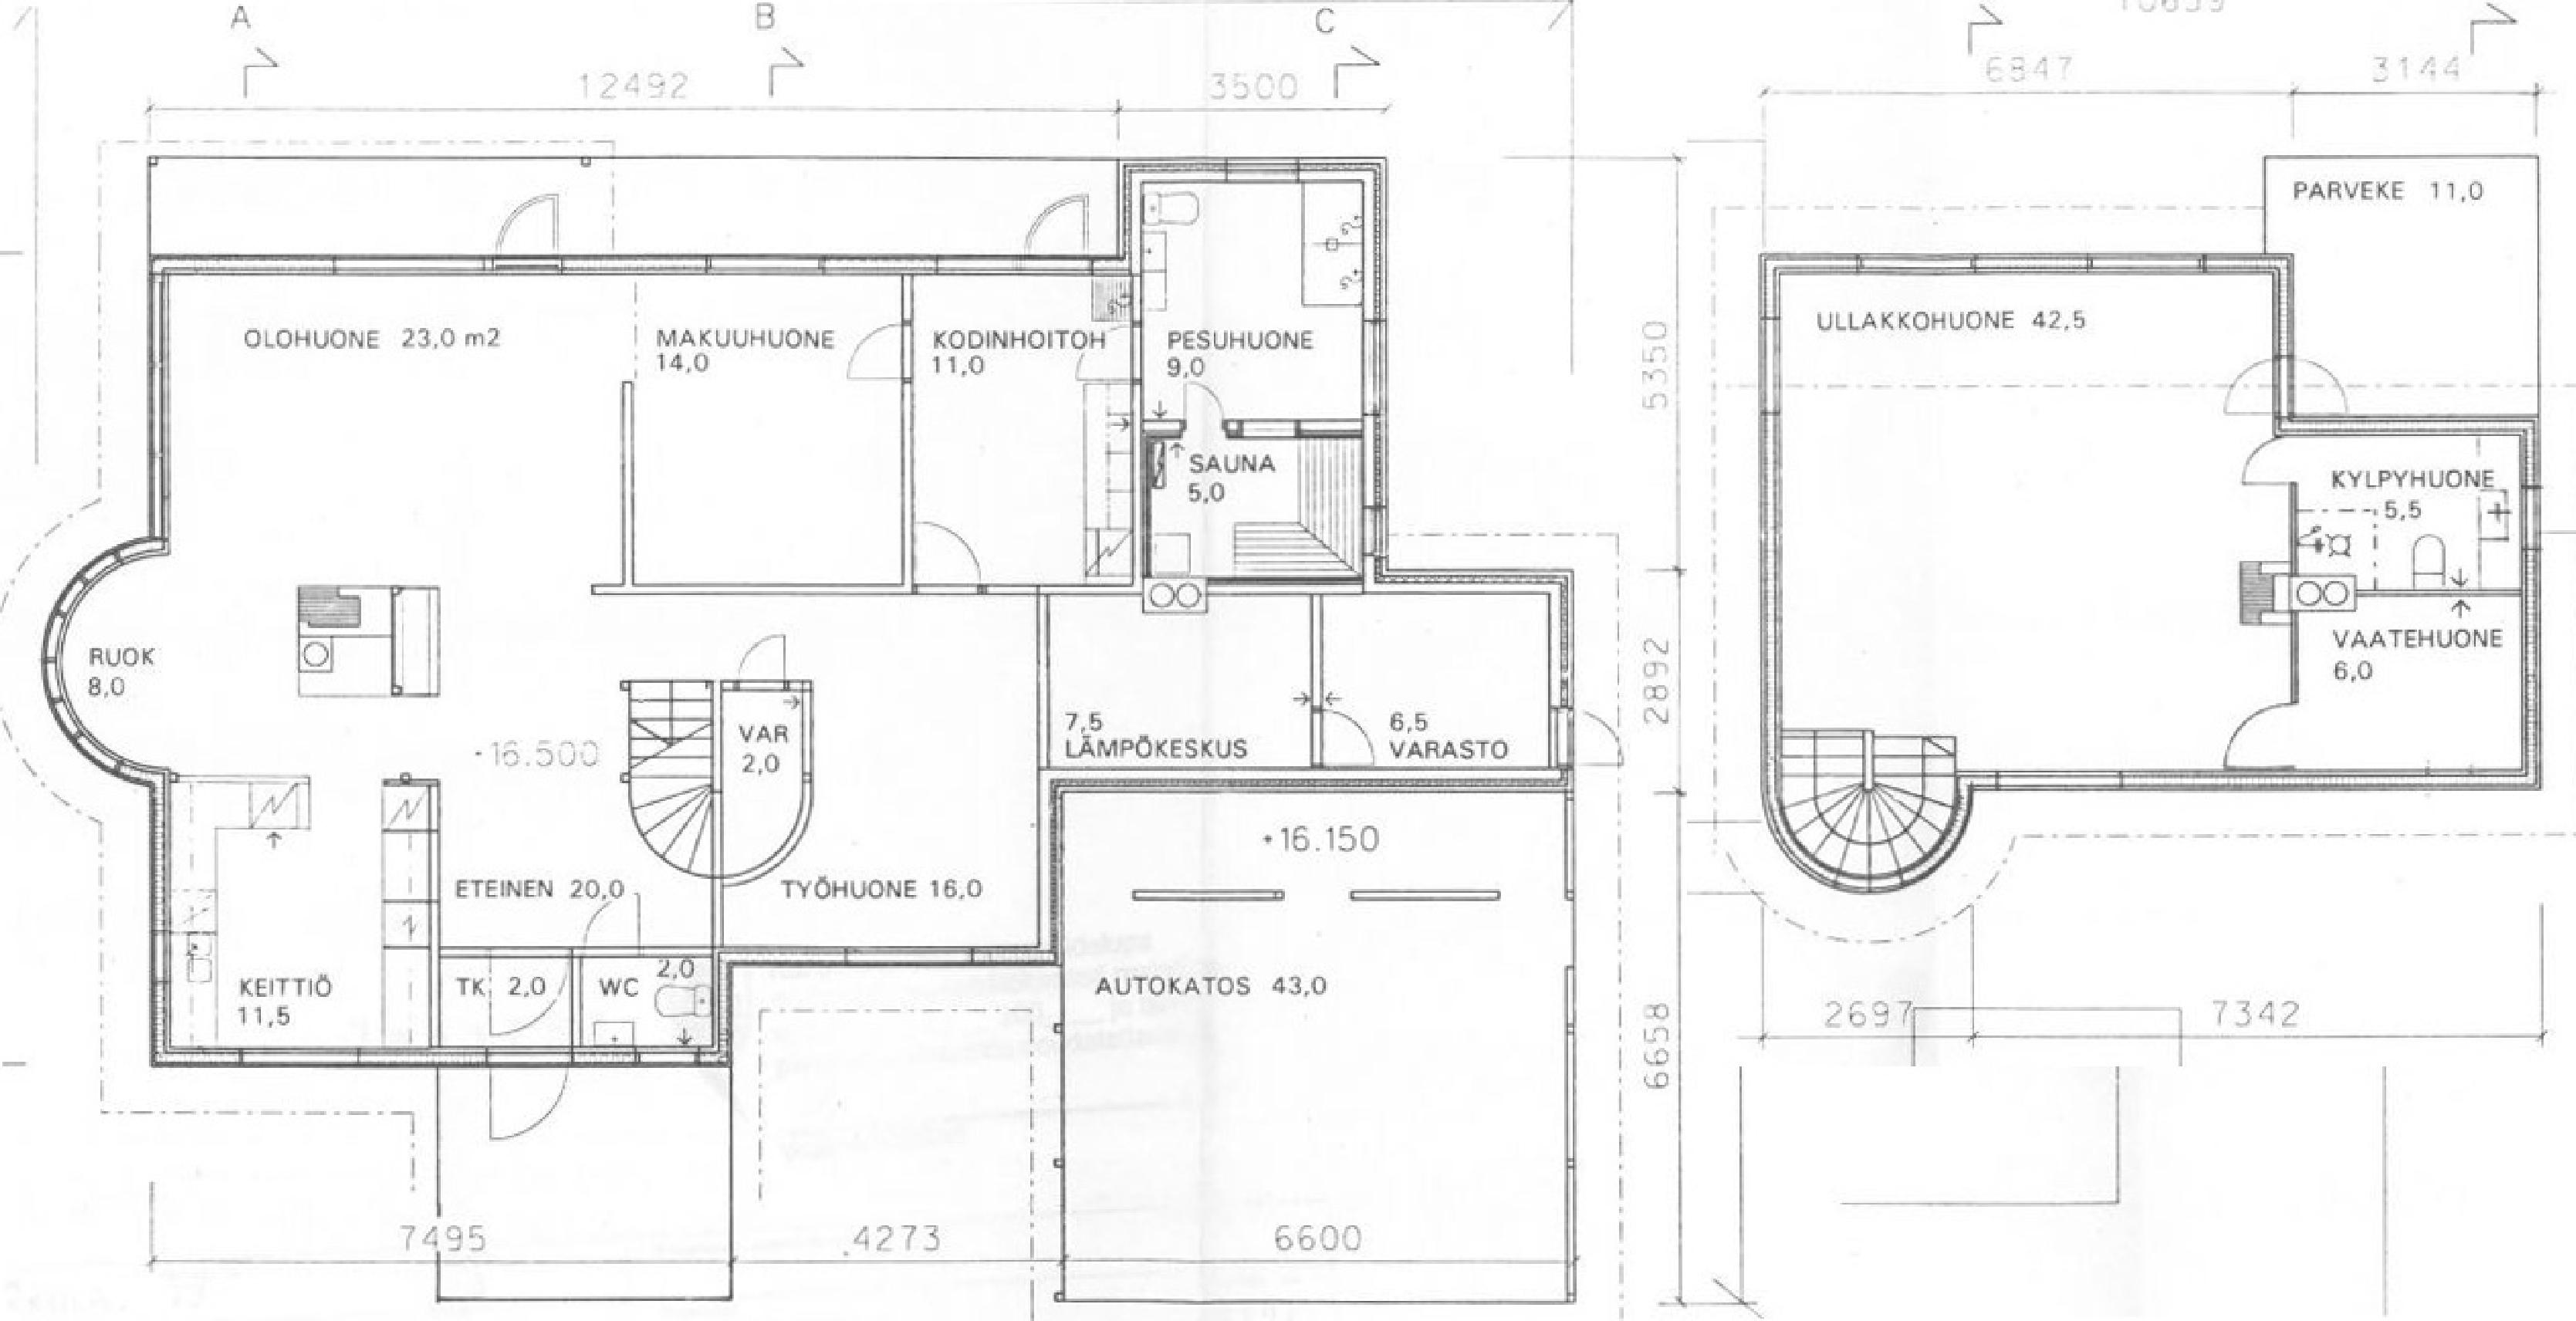door: (47, 270, 1050, 1046), (1777, 275, 2311, 890), (1061, 792, 1562, 1302), (2264, 157, 2537, 416), (440, 1070, 736, 1294), (917, 276, 1129, 583), (1144, 179, 1361, 420), (1050, 596, 1311, 762), (2293, 596, 2531, 775), (1329, 586, 1547, 768), (2290, 433, 2527, 588), (1157, 441, 1360, 576)
window: (480, 947, 575, 1031), (484, 1055, 571, 1142), (2226, 357, 2354, 413), (1545, 704, 1626, 772), (2224, 704, 2301, 772), (1306, 709, 1383, 773), (849, 322, 920, 386), (910, 522, 981, 586), (1026, 192, 1092, 256), (499, 194, 561, 261), (580, 891, 644, 947), (1073, 327, 1142, 377), (2241, 438, 2301, 487), (1181, 377, 1228, 430), (738, 630, 787, 679)
zone: (564, 254, 1018, 275), (1563, 969, 1577, 1302), (1560, 768, 1575, 898)
